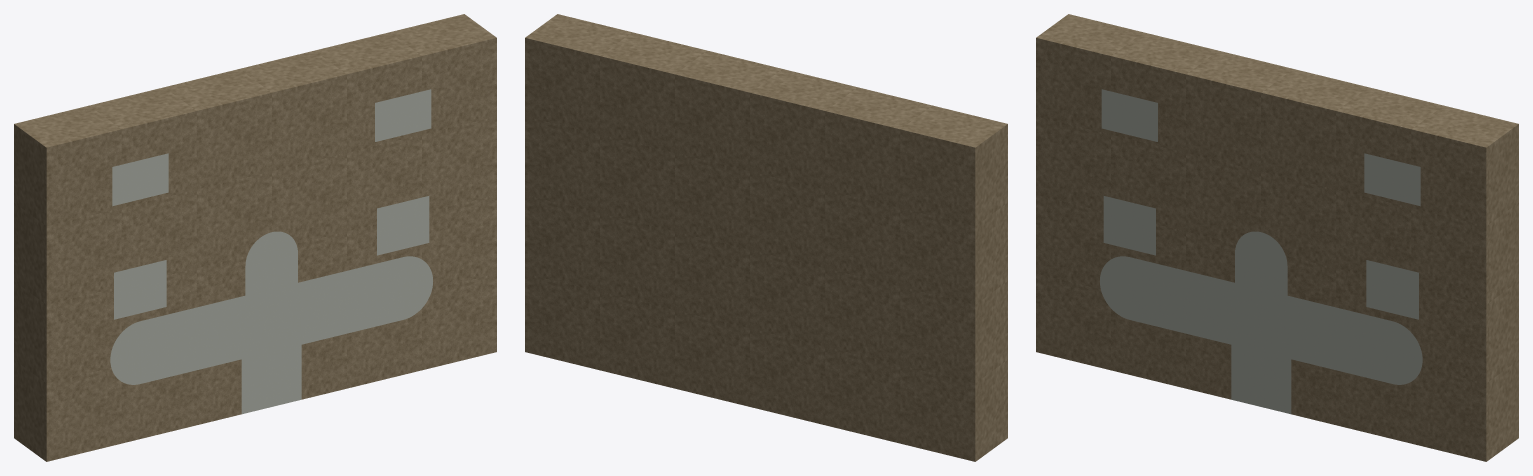
File: weather_outdoor_ground_candidate.glb
The picture shows the model from 3 angles, left to right: view 1: azimuth 30°, elevation 25°; view 2: azimuth 150°, elevation 25°; view 3: azimuth 330°, elevation 25°; orthographic projection.
Parts seen in each view (by area): view 1: outdoor_floor_level_earth_1, outdoor_floor_flush_walkway, outdoor_floor_soil_substrate, outdoor_floor_bench_pad_white_bench, outdoor_floor_bench_pad_black_bench, outdoor_floor_bench_pad_tracker_support, outdoor_floor_bench_pad_weather_service; view 2: outdoor_floor_soil_substrate, outdoor_floor_level_earth_1; view 3: outdoor_floor_level_earth_1, outdoor_floor_flush_walkway, outdoor_floor_soil_substrate, outdoor_floor_bench_pad_black_bench, outdoor_floor_bench_pad_white_bench, outdoor_floor_bench_pad_weather_service, outdoor_floor_bench_pad_tracker_support.
Part boxes in pixels (x1,y1,x2,y2): outdoor_floor_level_earth_1: (42, 34, 496, 461); outdoor_floor_flush_walkway: (110, 231, 432, 414); outdoor_floor_soil_substrate: (14, 14, 491, 458); outdoor_floor_bench_pad_white_bench: (114, 260, 166, 319); outdoor_floor_bench_pad_black_bench: (377, 196, 429, 255); outdoor_floor_bench_pad_tracker_support: (112, 153, 168, 206); outdoor_floor_bench_pad_weather_service: (375, 89, 431, 141); outdoor_floor_soil_substrate: (525, 17, 1003, 461); outdoor_floor_level_earth_1: (553, 14, 1007, 440); outdoor_floor_level_earth_1: (1036, 34, 1490, 461); outdoor_floor_flush_walkway: (1100, 231, 1422, 414); outdoor_floor_soil_substrate: (1041, 14, 1518, 458); outdoor_floor_bench_pad_black_bench: (1366, 260, 1418, 319); outdoor_floor_bench_pad_white_bench: (1103, 196, 1155, 255); outdoor_floor_bench_pad_weather_service: (1364, 153, 1420, 206); outdoor_floor_bench_pad_tracker_support: (1101, 89, 1157, 141).
Bounding box in the file's own units: 12 × 8 × 1.5.
2 materials, 2 textured.
